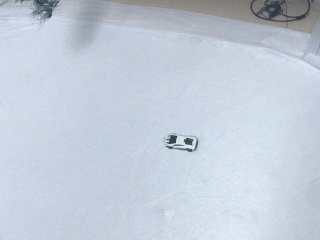toy_car: (164, 134, 198, 151)
